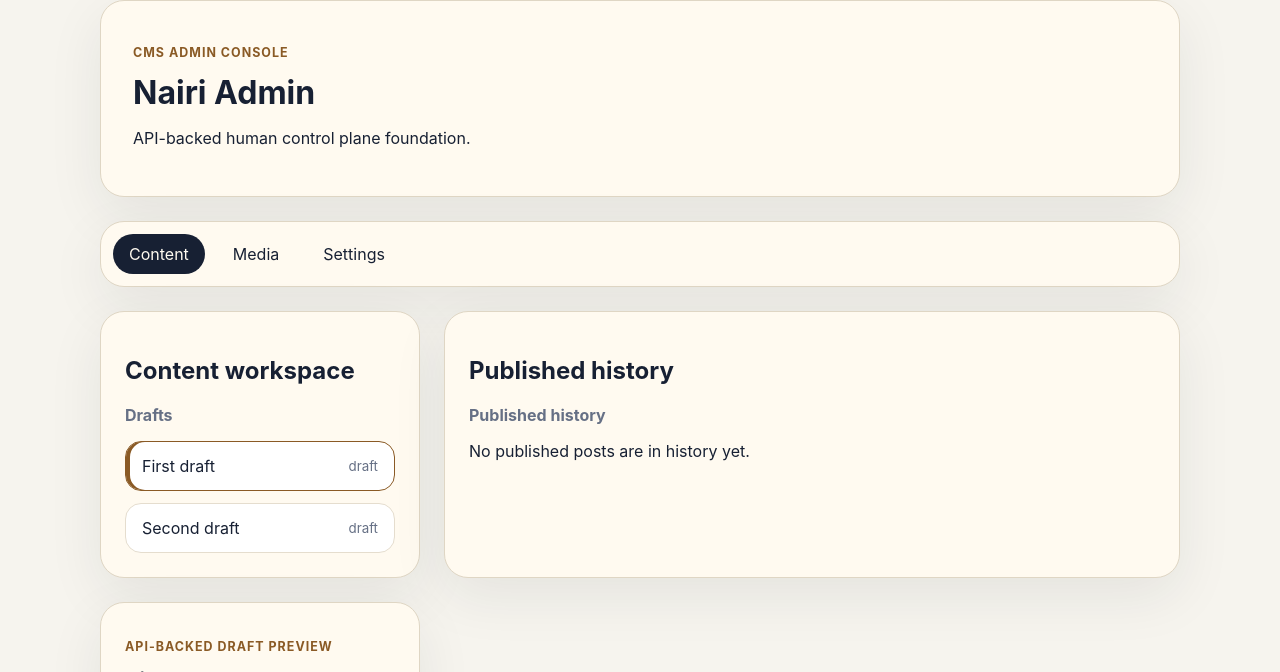
Nairi admin console shell › clears staged publish review status when selecting another draft
Click the button "First draft draft" at [178, 466], box [125,441,395,491]
(page scrolled)
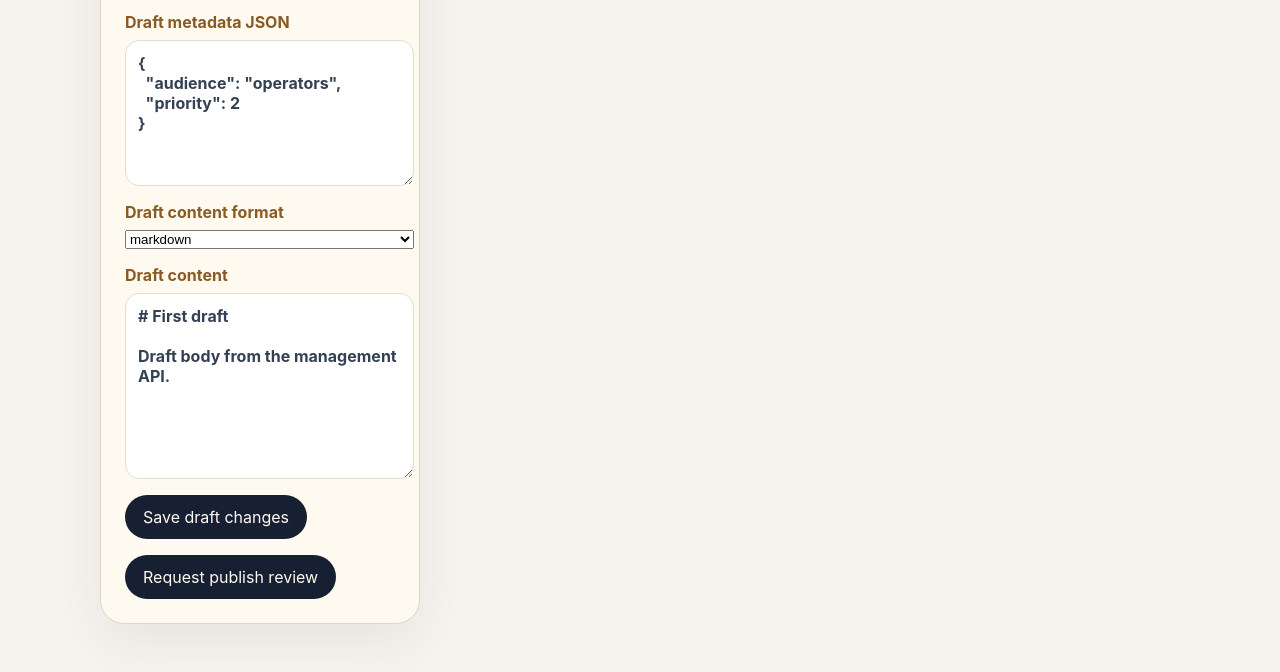
Click the button "Request publish review" at [231, 577], box [125,555,336,599]
(page scrolled)
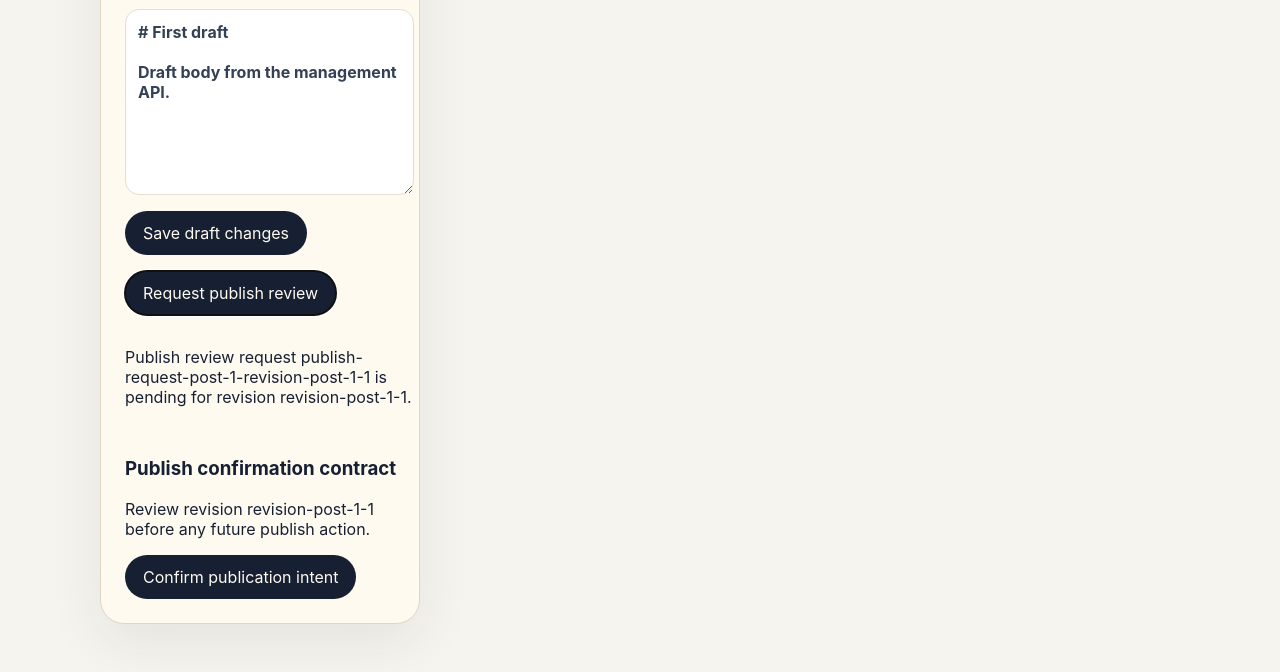
Now the message named "Publish review request status" shows "Publish review request publish-request-post-1-revision-post-1-1 is pending for revision revision-post-1-1.", box [125,347,412,407]
Click the button "Confirm publication intent" at [241, 577], box [125,555,356,599]
(page scrolled)
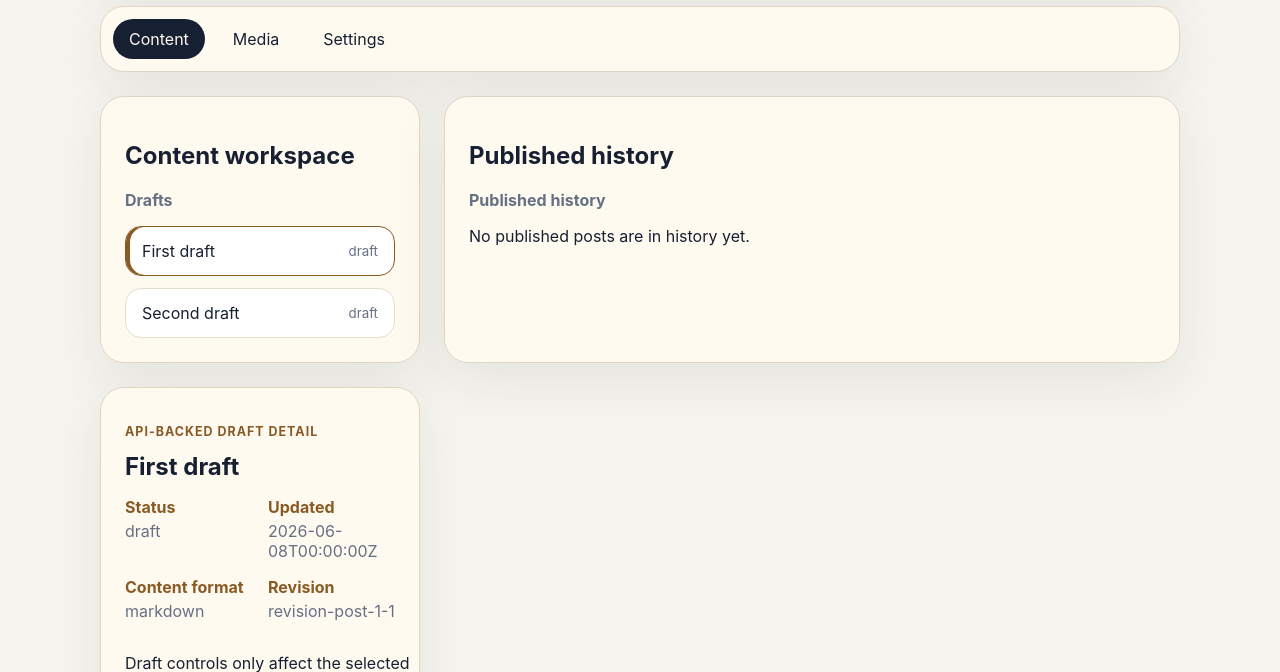
Click the button "Second draft draft" at [191, 313], box [125,288,395,338]
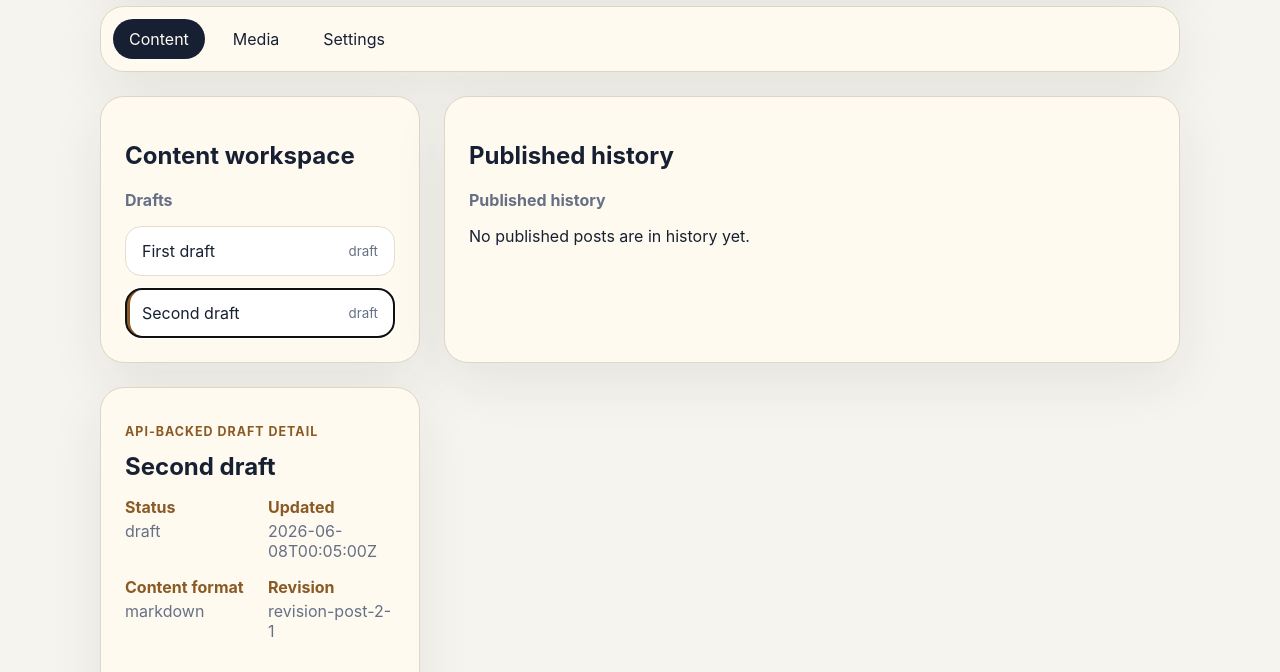
Now the text "revision-post-2-1" is shown, box [268,601,395,641]
